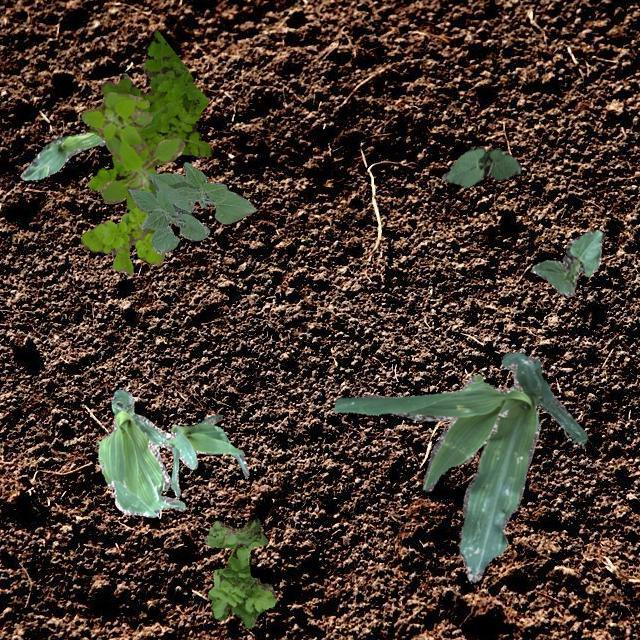crop: (332, 350, 586, 580), (126, 162, 256, 252), (96, 388, 184, 516), (164, 414, 248, 496), (530, 228, 604, 294), (20, 132, 104, 178), (440, 146, 520, 187)
weed: (86, 28, 212, 208), (80, 91, 184, 212), (203, 518, 276, 628), (80, 205, 164, 272)
